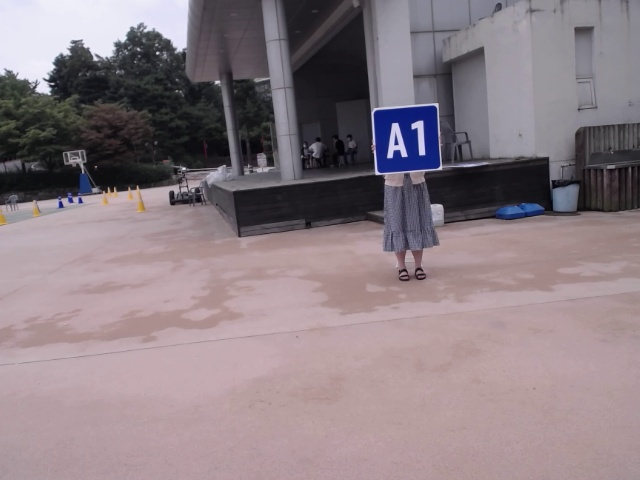delivery_a1: (372, 104, 441, 174)
